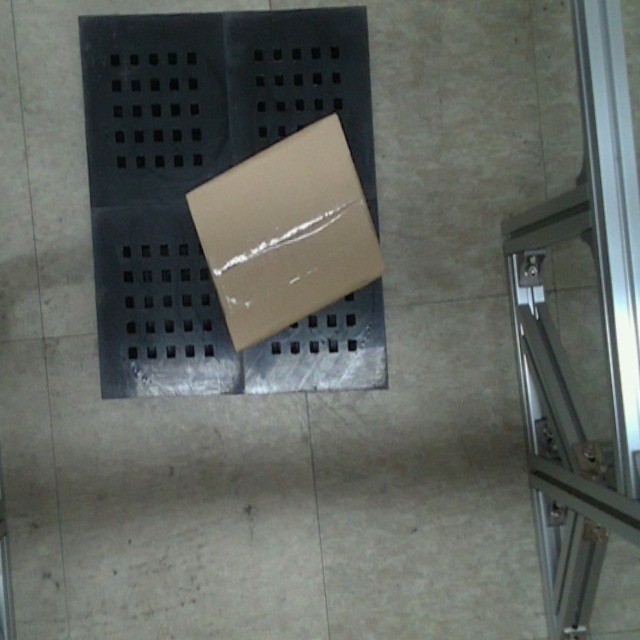box: (178, 102, 391, 358)
pallet: (56, 0, 411, 421)
